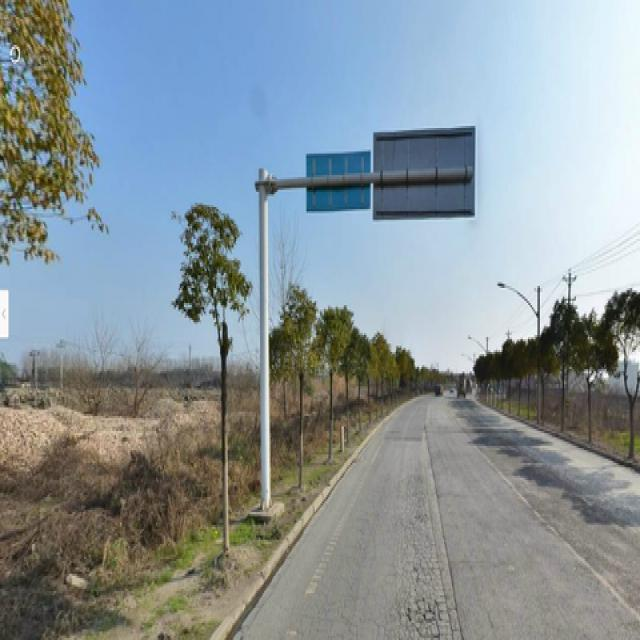cinn: (183, 207, 248, 557)
